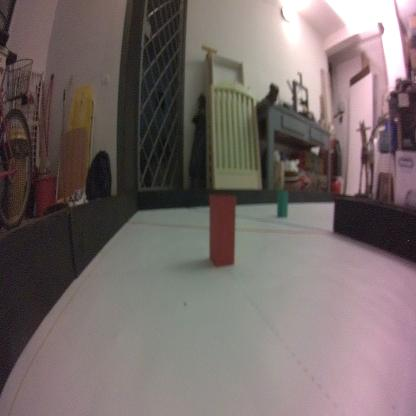green: (276, 186, 288, 218)
red: (207, 189, 237, 269)
